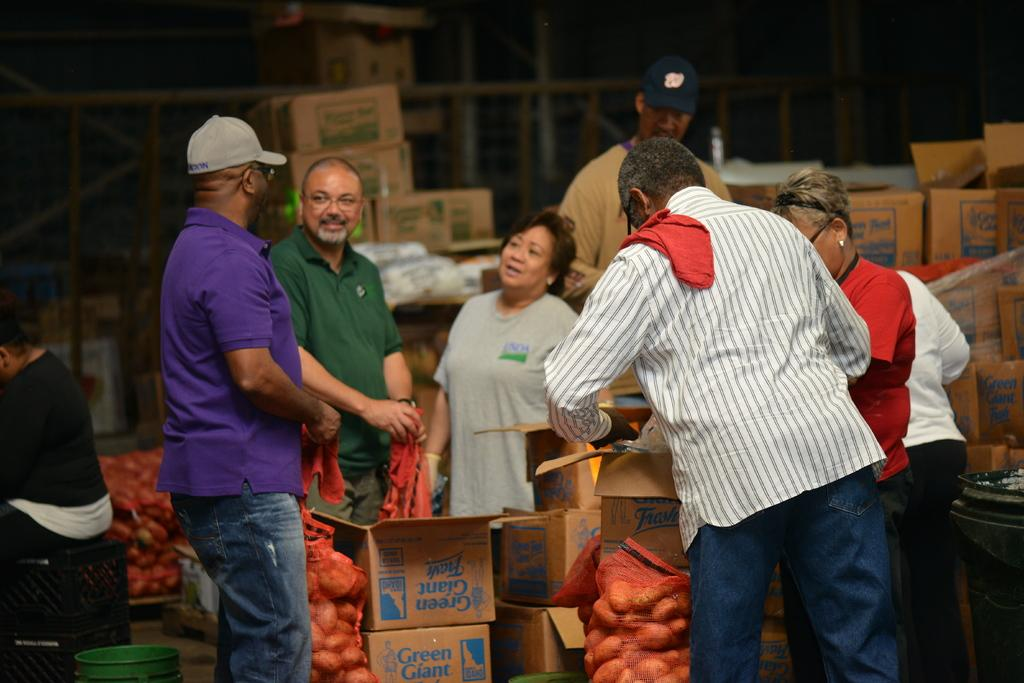Hat: (187, 110, 287, 176), (642, 57, 700, 118)
